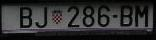-: (112, 15, 117, 18)
2: (68, 6, 79, 27)
6: (98, 6, 110, 27)
8: (83, 7, 95, 27)
B: (20, 7, 32, 28), (121, 6, 132, 27)
J: (35, 7, 47, 28)
M: (135, 5, 148, 27)
